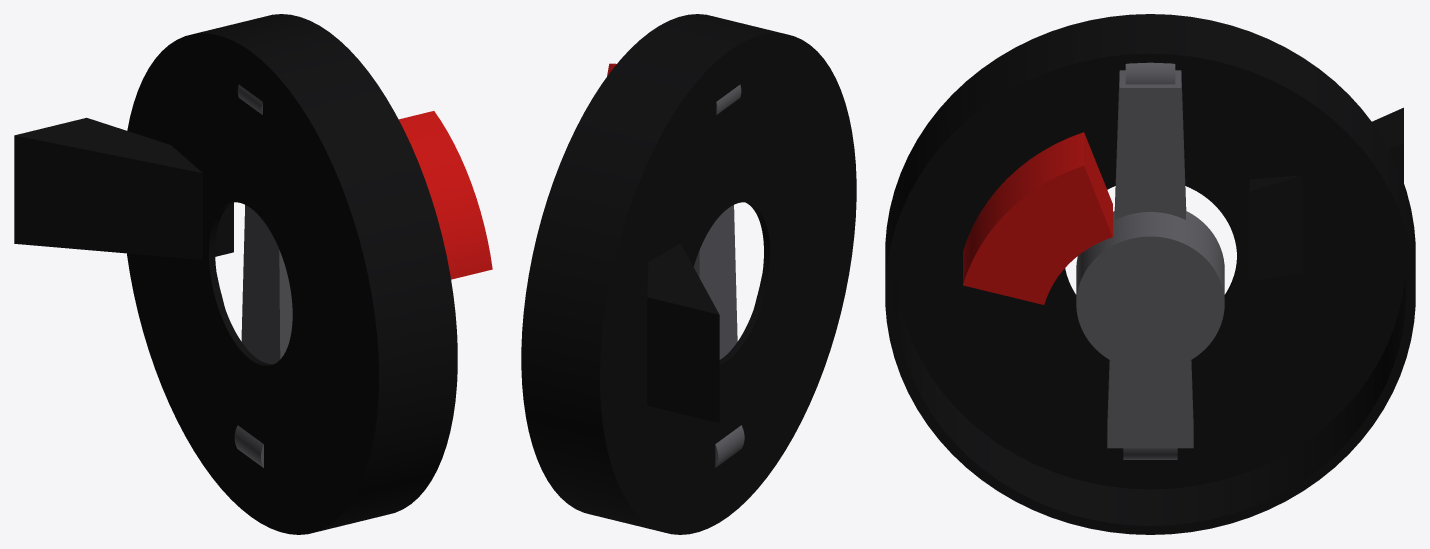
File: wheel_upright_front.glb
3 views of the same model, side by side, from view 1: azimuth 30°, elevation 25°; view 2: azimuth 150°, elevation 25°; view 3: azimuth 270°, elevation 25° (orthographic). The views are drawn at different scales.
Parts seen in each view (by area): view 1: wheel_upright_front; view 2: wheel_upright_front; view 3: wheel_upright_front.
Part boxes in pixels (x1,y1,x2,y2): wheel_upright_front: [14, 14, 492, 534]; wheel_upright_front: [521, 14, 856, 534]; wheel_upright_front: [885, 14, 1415, 534].
Bounding box in the file's own units: 0.256 × 0.4292 × 0.4289.
